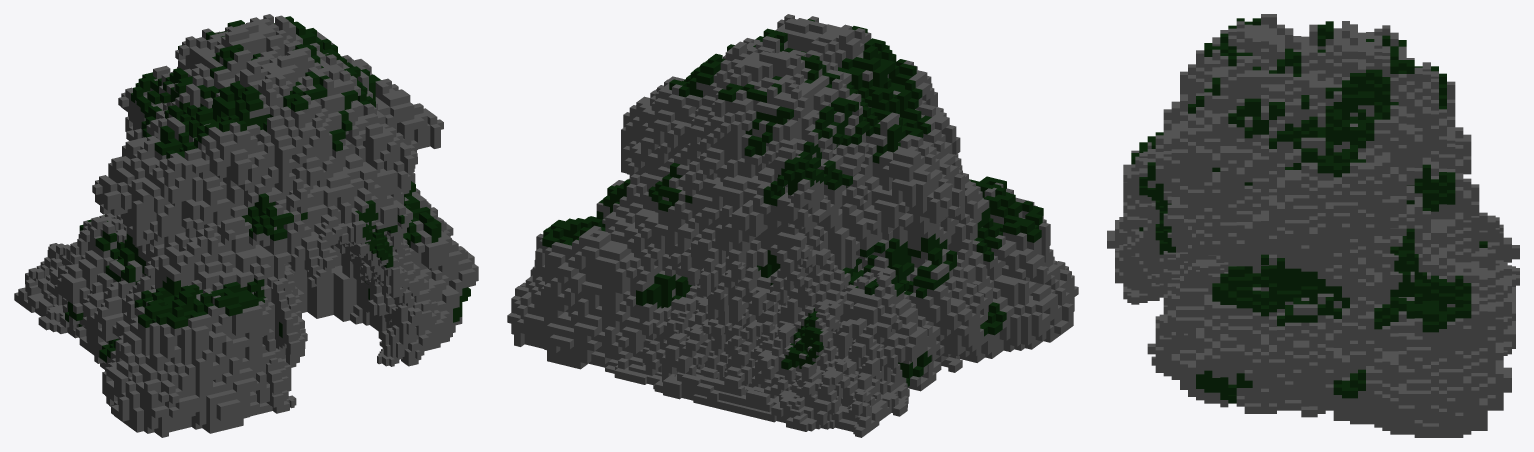
The model's file is cave.fbx.
3 views of the same model, side by side, from view 1: azimuth 30°, elevation 25°; view 2: azimuth 150°, elevation 25°; view 3: azimuth 270°, elevation 25° (orthographic). The views are drawn at different scales.
Parts seen in each view (by area): view 1: cave; view 2: cave; view 3: cave.
Boxes of the visible parts, x1=… form: cave: x1=14, y1=14, x2=478, y2=437; cave: x1=507, y1=14, x2=1078, y2=437; cave: x1=1107, y1=14, x2=1519, y2=437.
Size of the model in its own units: 126 by 82 by 102.
Materials: 1 (1 with a texture image).
